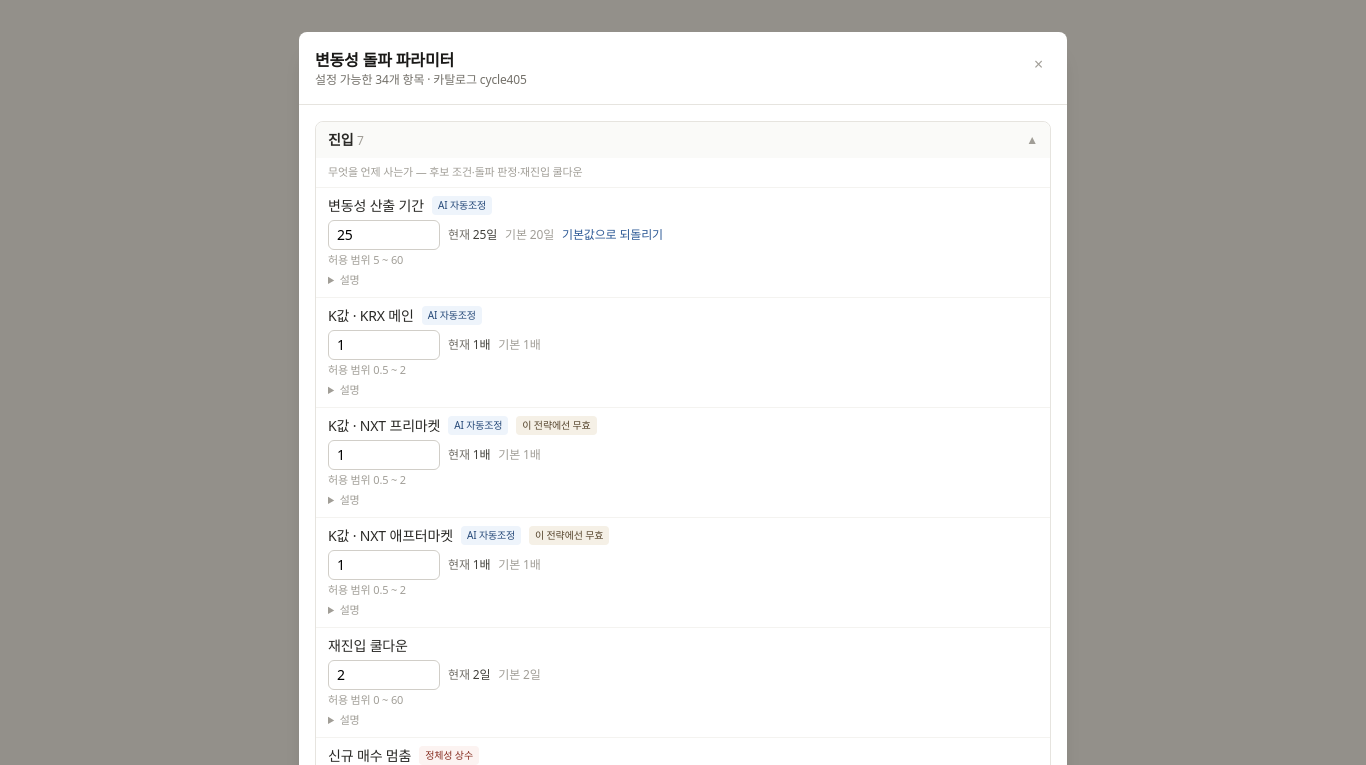
it: cycle278 F16~F20 — 저장·오류·경고 › F16 422 detail 의 각 원소가 key 로 그 행에 붙는다
Replace the text in the field with test id "strategy-params-input-k-period" with "999": point(384, 234) [328,220,440,250]
(page scrolled)
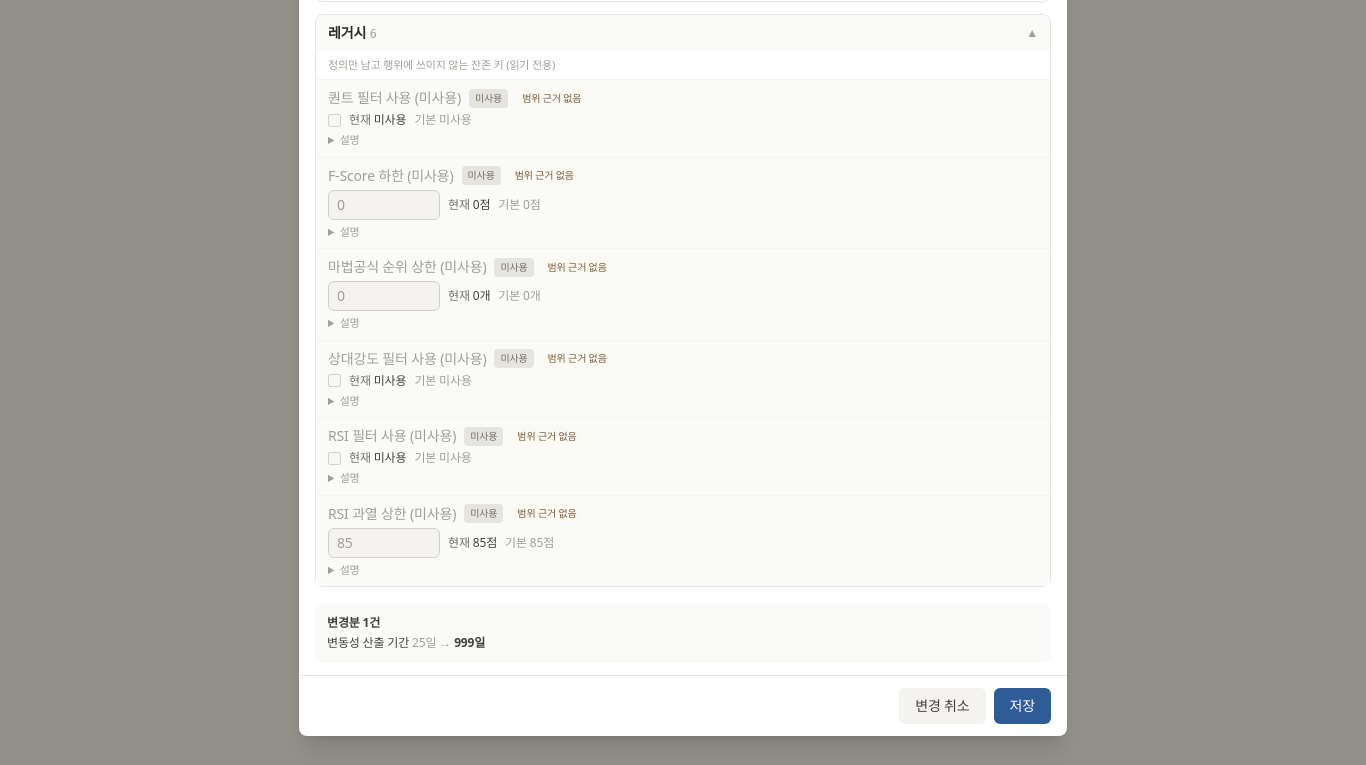
Click the button with test id "strategy-params-save": point(1022, 706) [994,688,1051,724]
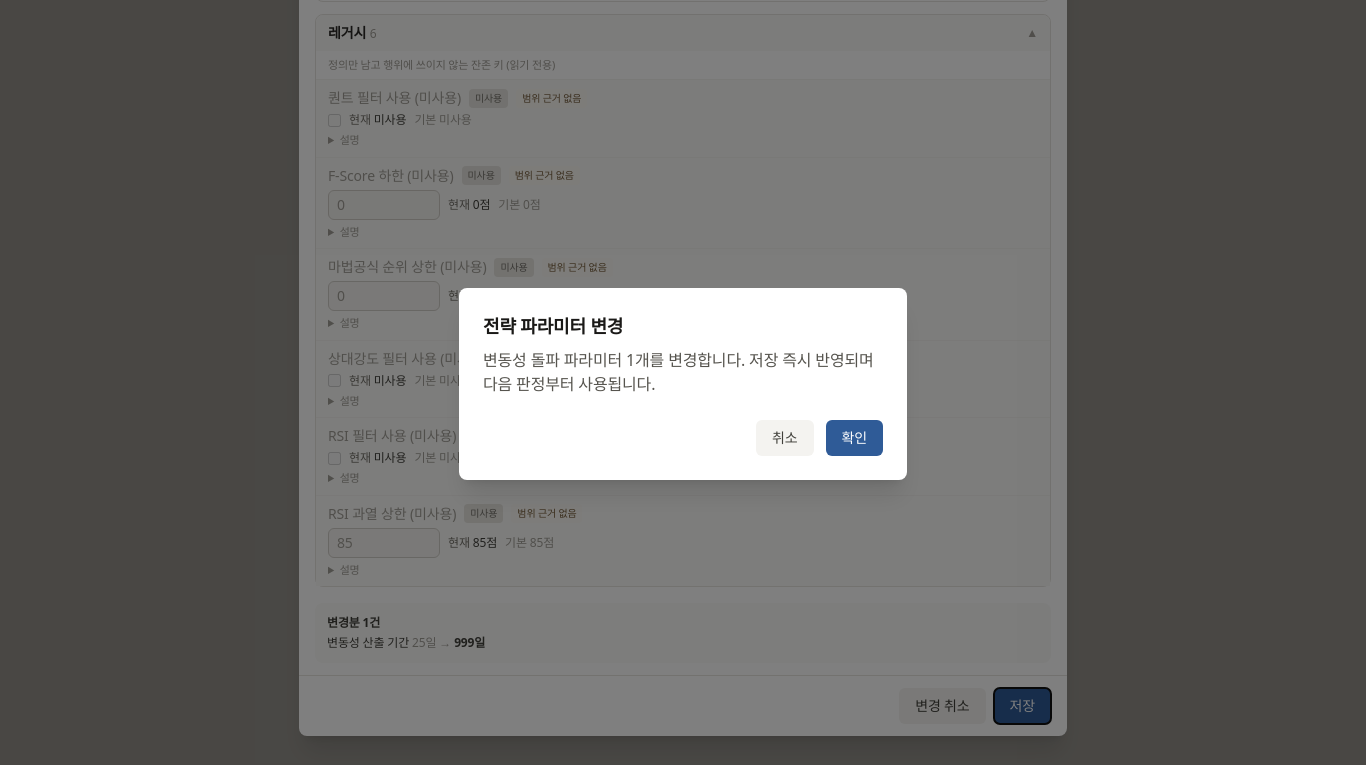
Click the button "확인": point(854, 438) [826,420,883,456]
(page scrolled)
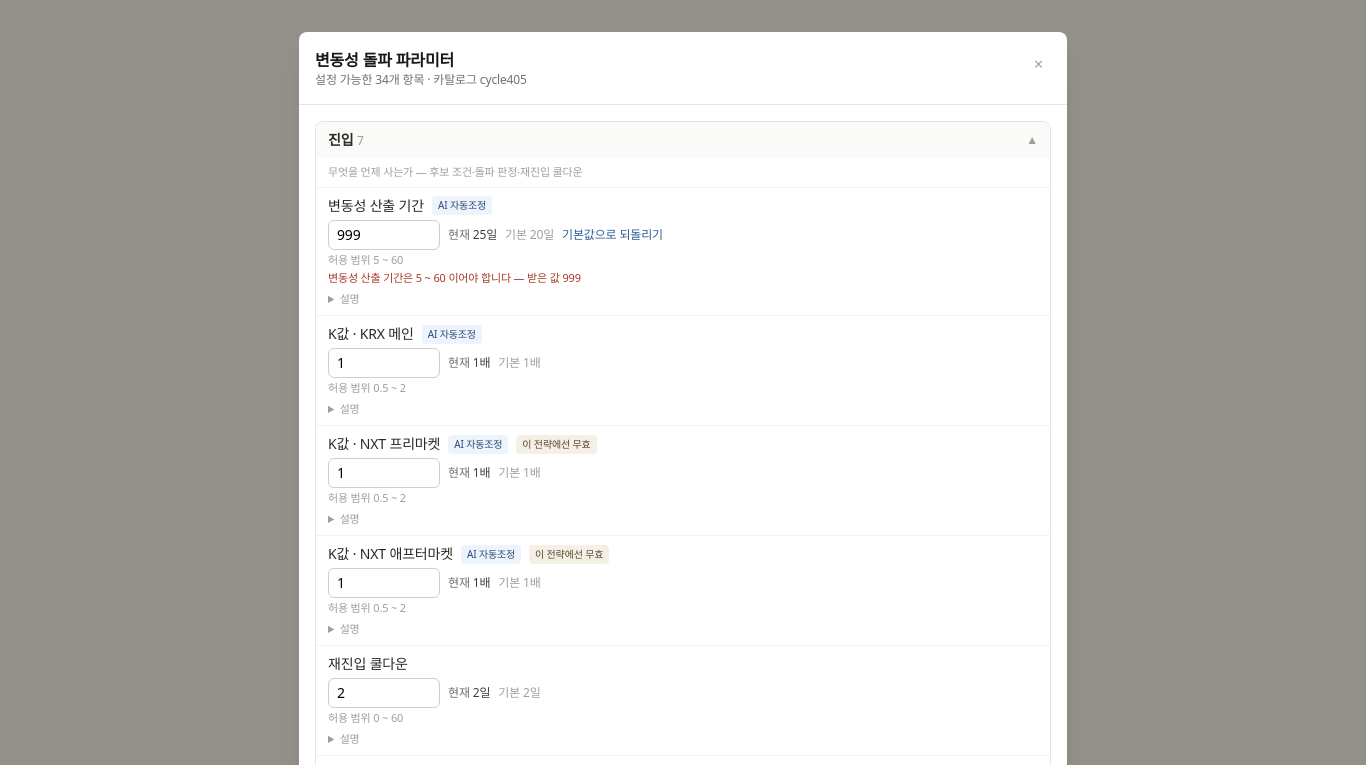
Expected: the text with test id "strategy-params-error-k-period" shows "5 ~ 60", [328,270,581,285]
